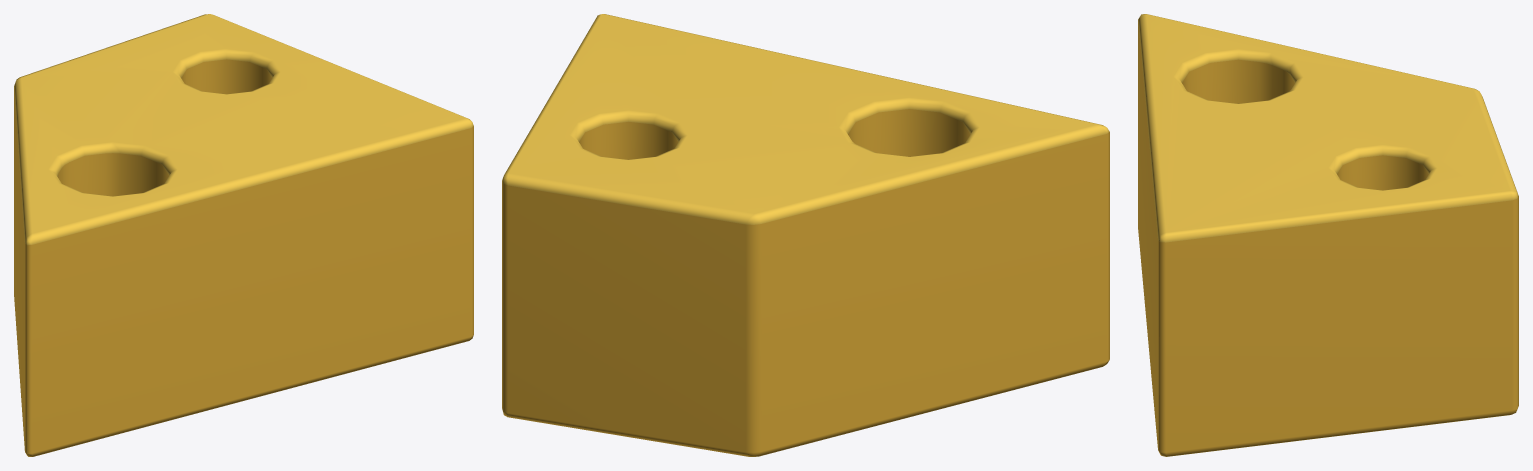
File: cheese.glb
The picture shows the model from 3 angles, left to right: view 1: azimuth 30°, elevation 25°; view 2: azimuth 150°, elevation 25°; view 3: azimuth 270°, elevation 25°; orthographic projection. The views are drawn at different scales.
Visible parts, largest first — view 1: cheese; view 2: cheese; view 3: cheese.
Part boxes in pixels (x1,y1,x2,y2): cheese: (14,14,473,456); cheese: (502,14,1109,456); cheese: (1138,14,1518,456).
Bounding box in the file's own units: 0.5976 × 0.278 × 0.4273.
